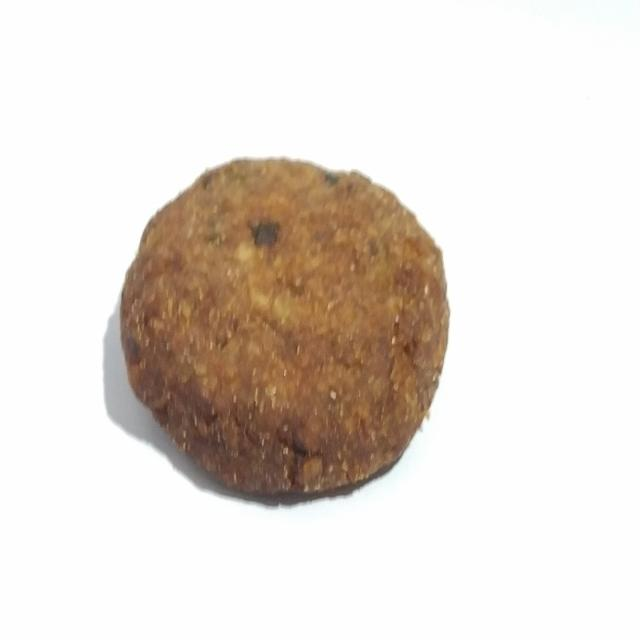Food: (114, 149, 458, 514)
